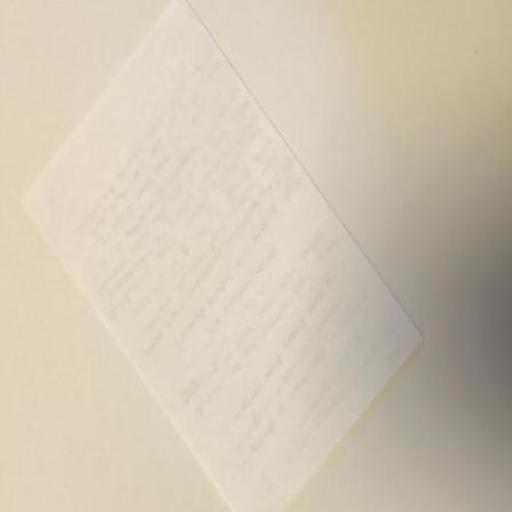paper: (27, 12, 484, 512)
